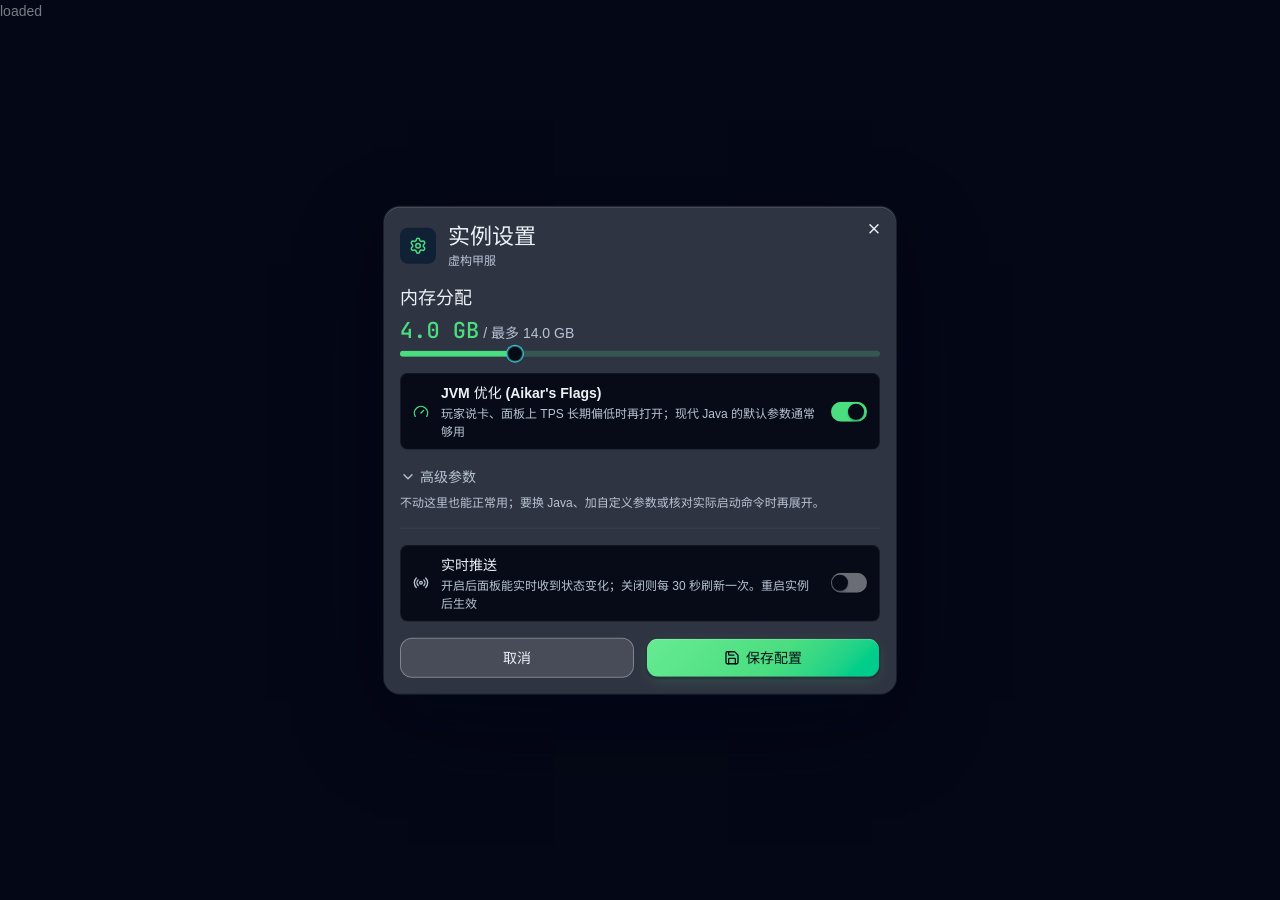
InstanceSettingsDialog › 旧 startCommand 解析（含 aikars）：开关开启并生成完整 Aikar 标志
Step 1. Click the button "高级参数" → (438, 477), box [400,466,476,488]
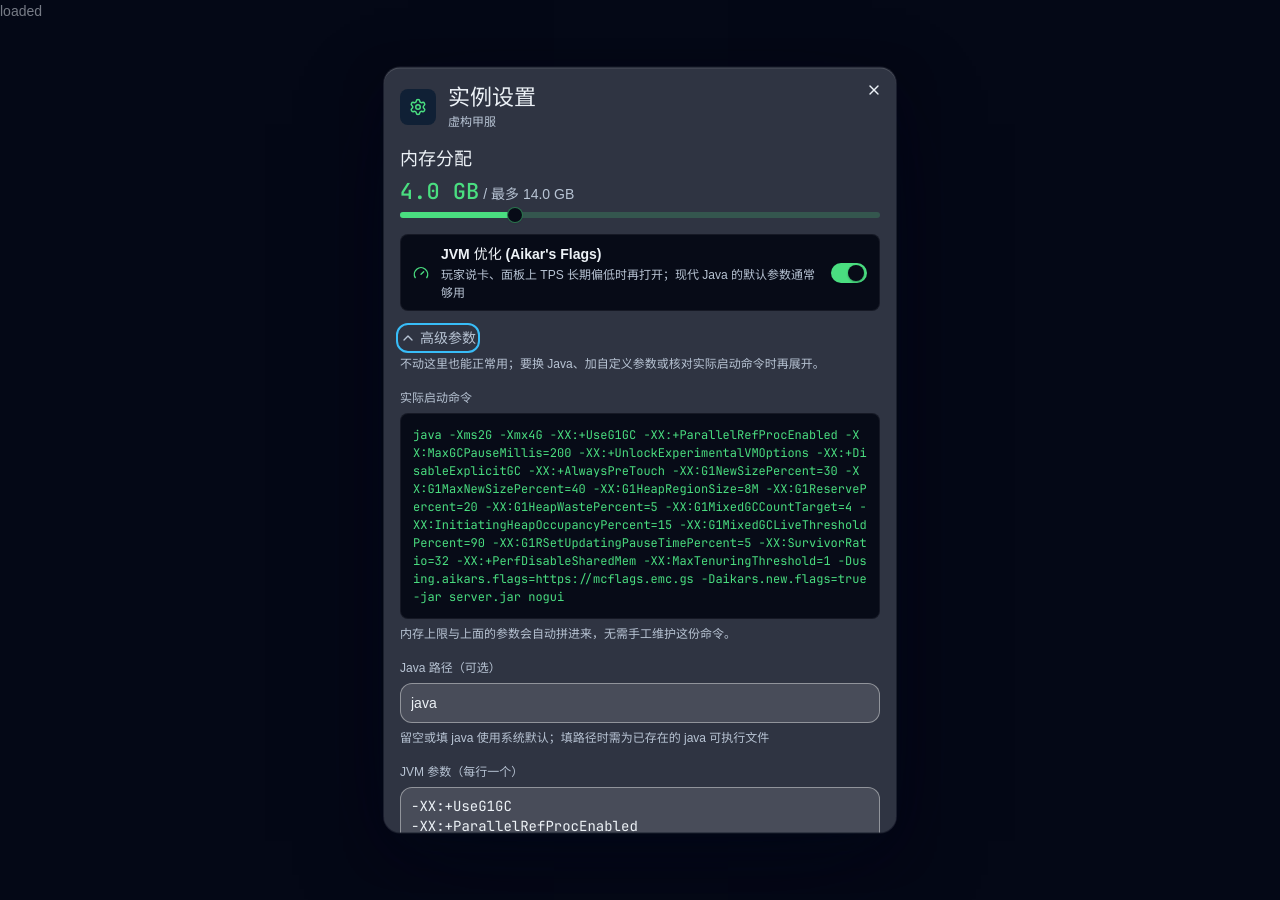
Check: the text "4.0 GB" is shown, box [400,176,479,205]
Check: the text "java -Xms2G -Xmx4G" shows "-XX:MaxGCPauseMillis=200", box [413,427,874,605]
Check: the text "java -Xms2G -Xmx4G" shows "-Daikars.new.flags=true", box [413,427,874,605]
